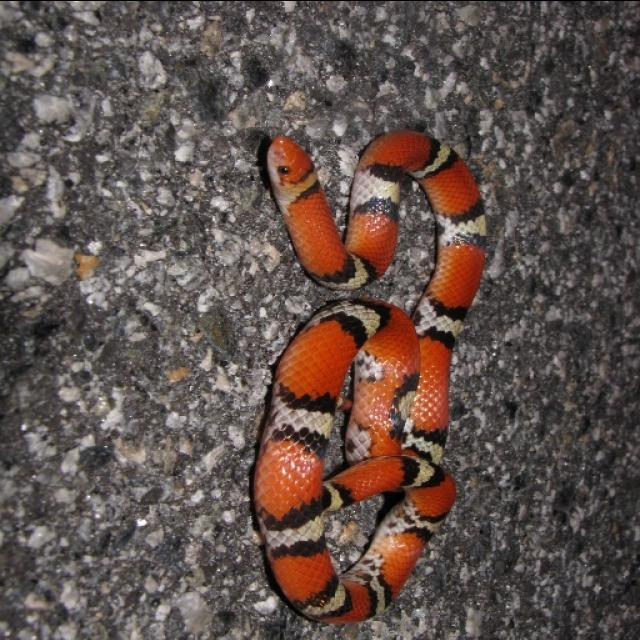snake: (234, 78, 500, 628)
